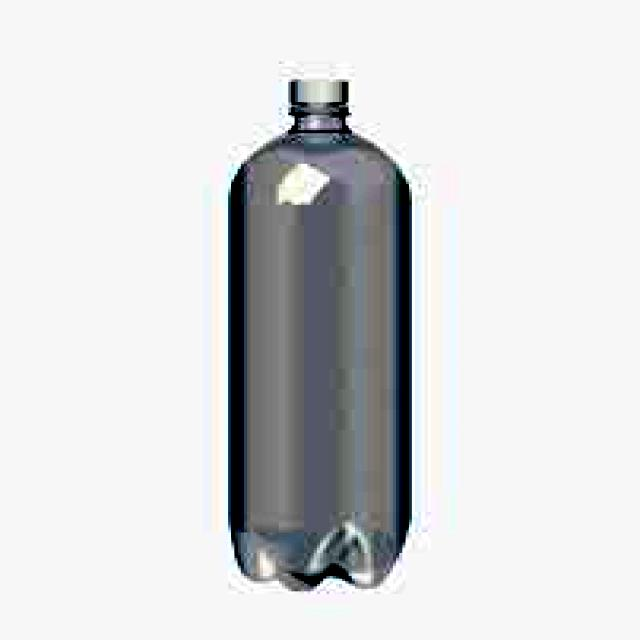Plastic: (224, 74, 416, 596)
